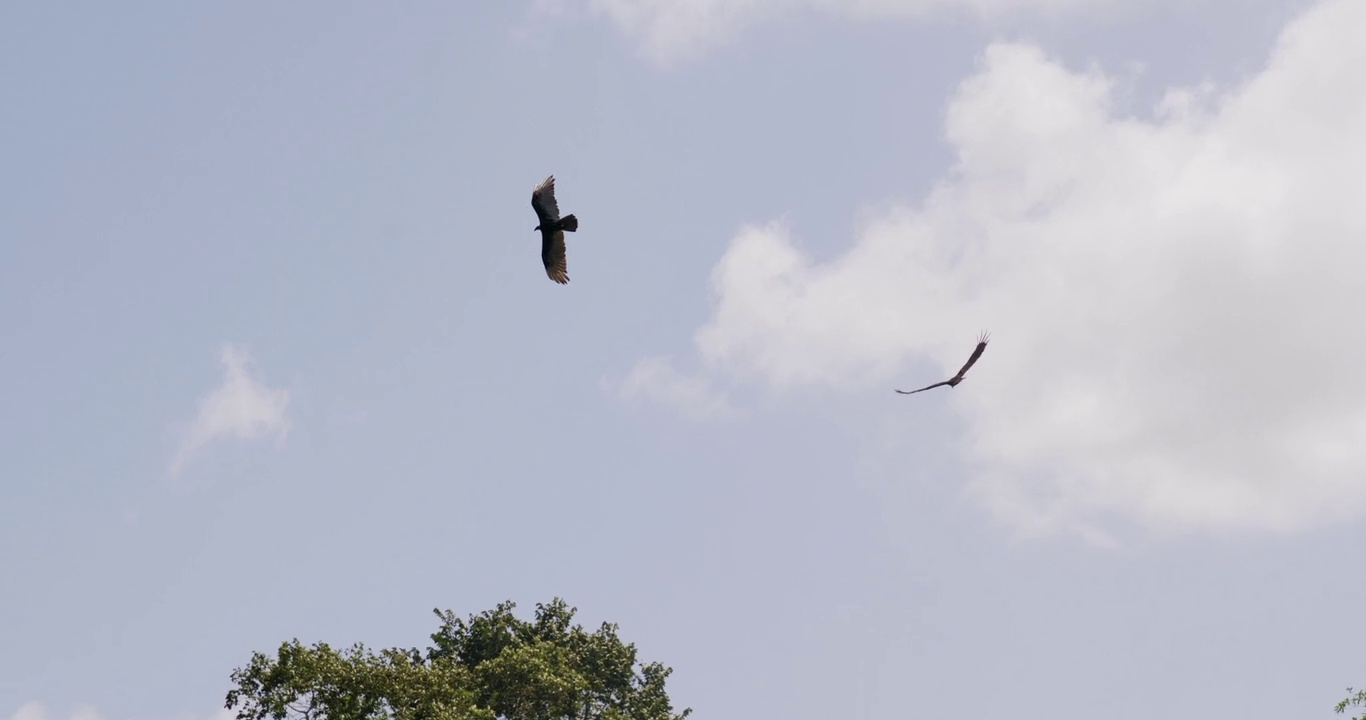bird: (531, 170, 577, 283), (896, 348, 990, 393)
